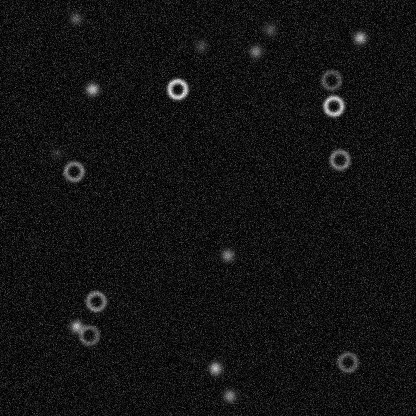Ring: (327, 147, 351, 171), (335, 349, 359, 373), (321, 93, 345, 117), (61, 159, 85, 183), (83, 289, 107, 313), (76, 323, 100, 347), (165, 76, 189, 100), (319, 68, 343, 92)
Spot: (192, 37, 208, 53), (67, 10, 83, 26), (48, 145, 64, 161), (247, 43, 263, 59), (261, 21, 277, 37), (207, 360, 223, 376), (68, 318, 84, 334), (219, 246, 235, 262), (84, 81, 100, 97), (351, 29, 367, 45), (221, 387, 237, 403)
